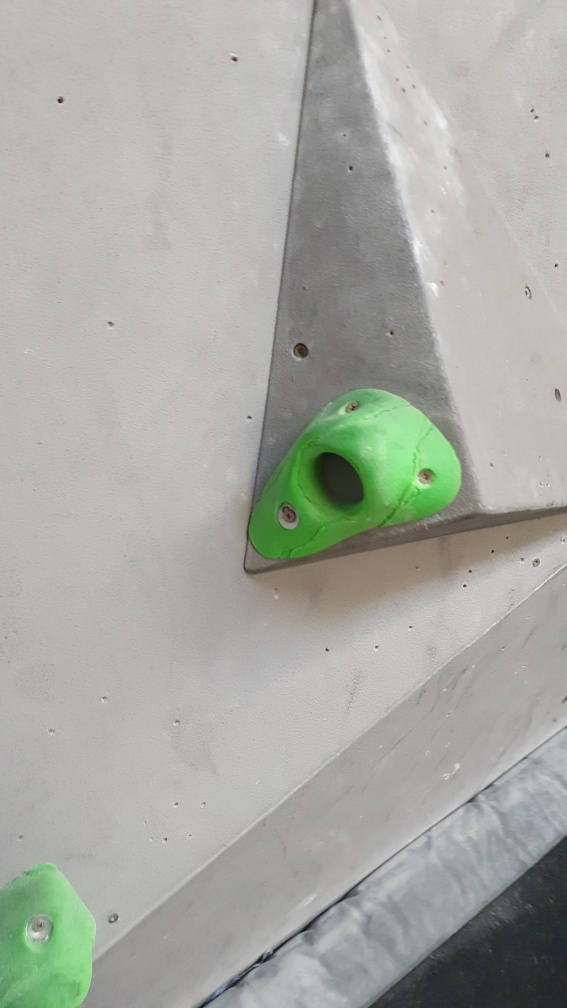Pocket: (242, 381, 467, 575)
